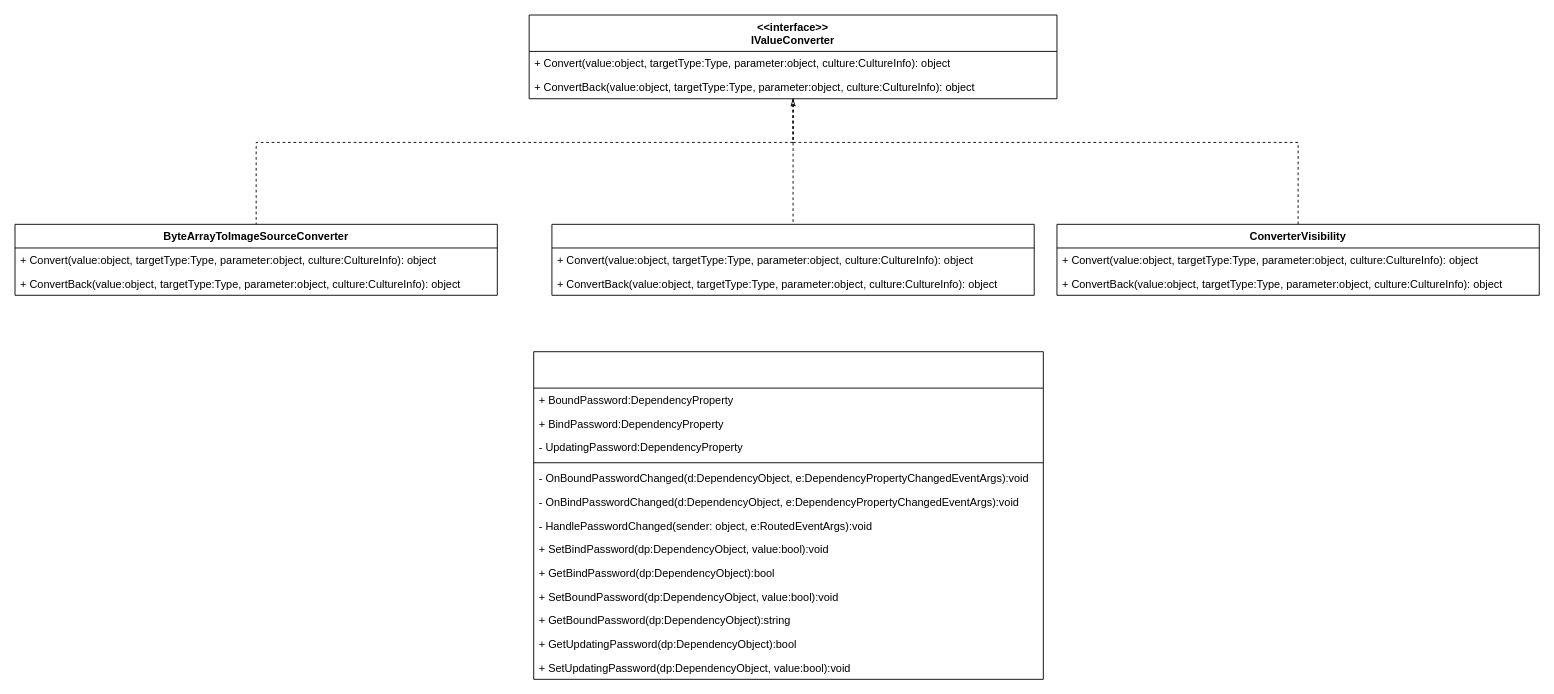
Some shapes in this 1554 by 694 pixel diagram are drawn without their labels. Each missing label, with the box of its shape:
EnumToIndexConverter: (551, 223, 1034, 295)
«utility» PasswordBoxAssistant: (533, 351, 1043, 679)
